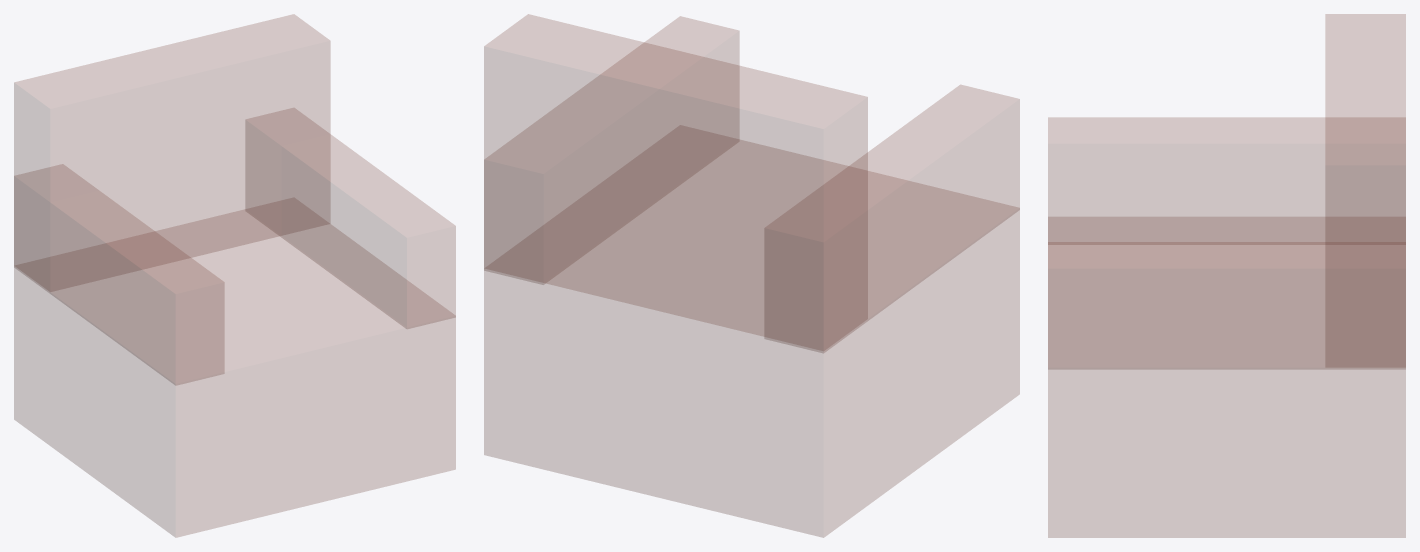
The model's file is armchair-ghost.glb.
The picture shows the model from 3 angles, left to right: view 1: azimuth 30°, elevation 25°; view 2: azimuth 150°, elevation 25°; view 3: azimuth 270°, elevation 25°; orthographic projection. The views are drawn at different scales.
Size of the model in its own units: 0.8 by 0.92 by 0.8.
